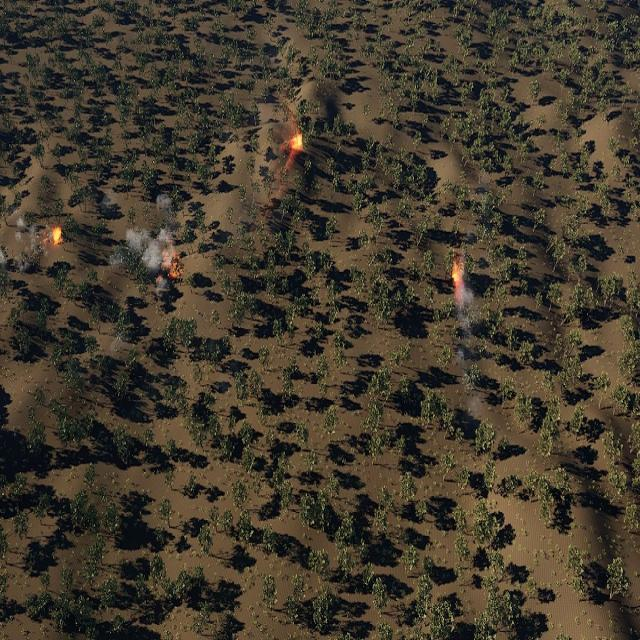fire: (452, 266, 462, 288), (290, 134, 302, 152), (170, 267, 180, 280), (54, 229, 62, 245)
smoke: (110, 192, 179, 276), (270, 104, 300, 210), (0, 213, 41, 277), (453, 285, 480, 380)
